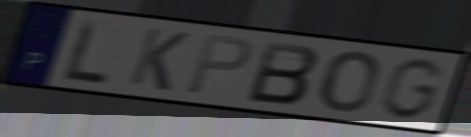B: (245, 39, 322, 107)
G: (376, 56, 447, 122)
K: (124, 25, 192, 94)
L: (62, 16, 111, 86)
O: (318, 49, 382, 114)
P: (183, 32, 256, 98)
